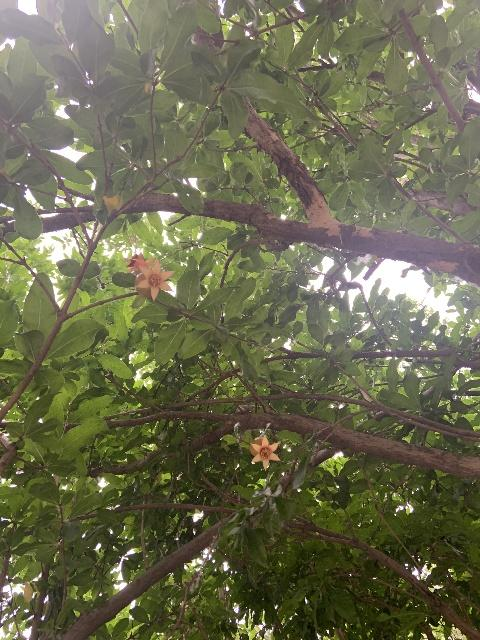early-fruit: (132, 258, 174, 301), (249, 434, 280, 470), (125, 251, 156, 275)
